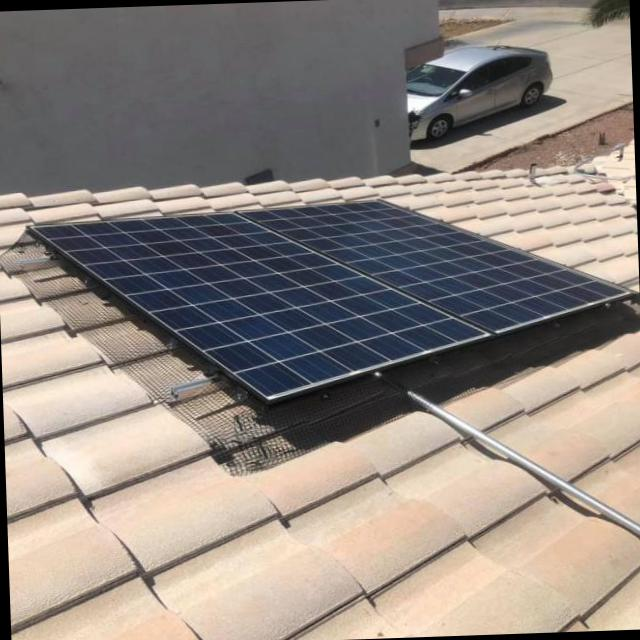no faulty: (34, 214, 494, 400), (246, 203, 618, 330)
